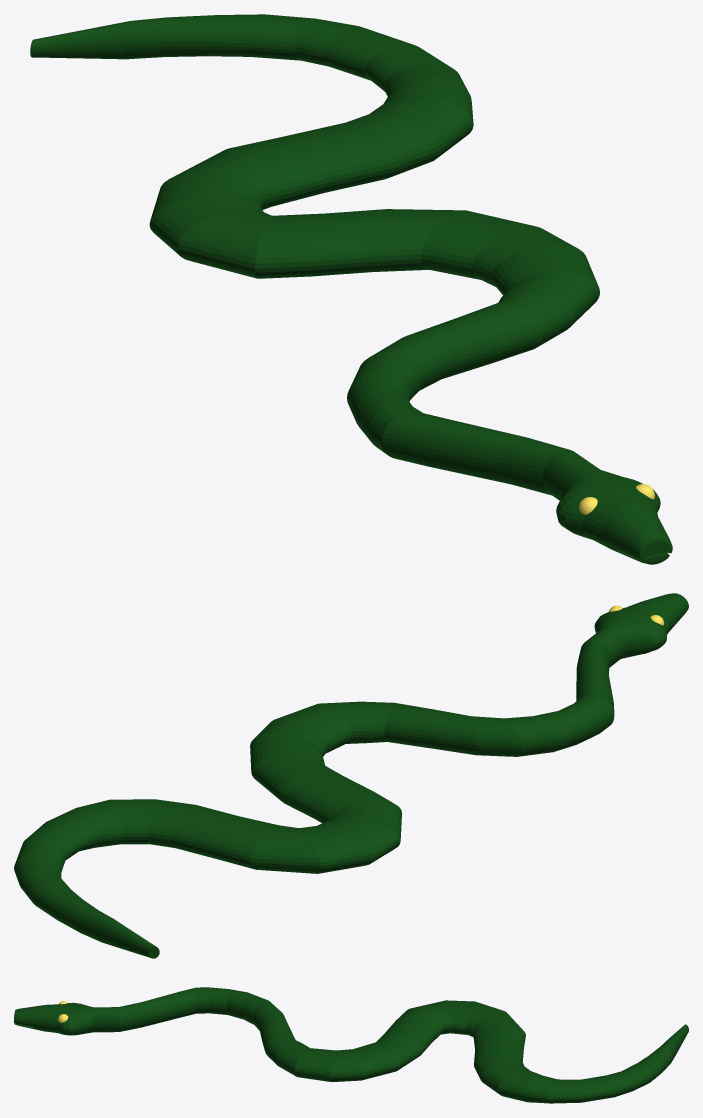
The model's file is snake.glb.
The picture shows the model from 3 angles, top to bottom: view 1: azimuth 30°, elevation 25°; view 2: azimuth 150°, elevation 25°; view 3: azimuth 270°, elevation 25°; orthographic projection. The views are drawn at different scales.
Parts seen in each view (by area): view 1: Sphere; view 2: Sphere; view 3: Sphere.
Boxes of the visible parts, x1,y1,x2,y2 form: Sphere: (30, 14, 672, 564); Sphere: (14, 593, 688, 958); Sphere: (14, 987, 688, 1103).
Size of the model in its own units: 0.3614 by 0.0369 by 0.9793.
